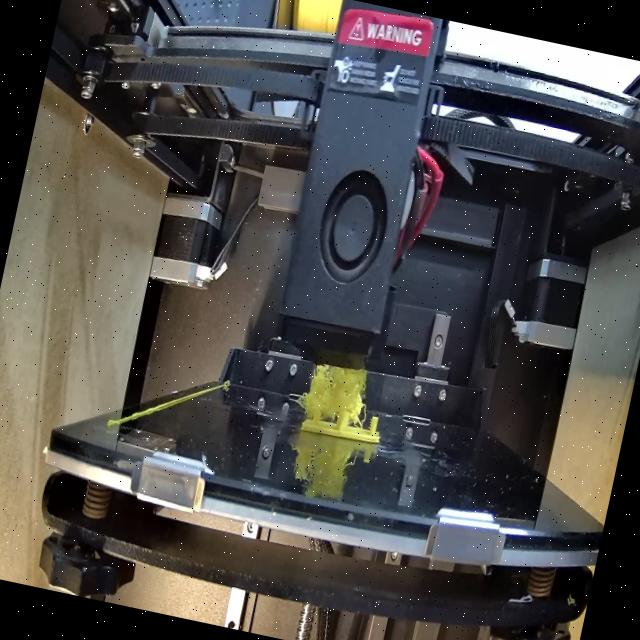spaghetti: (291, 349, 378, 429)
